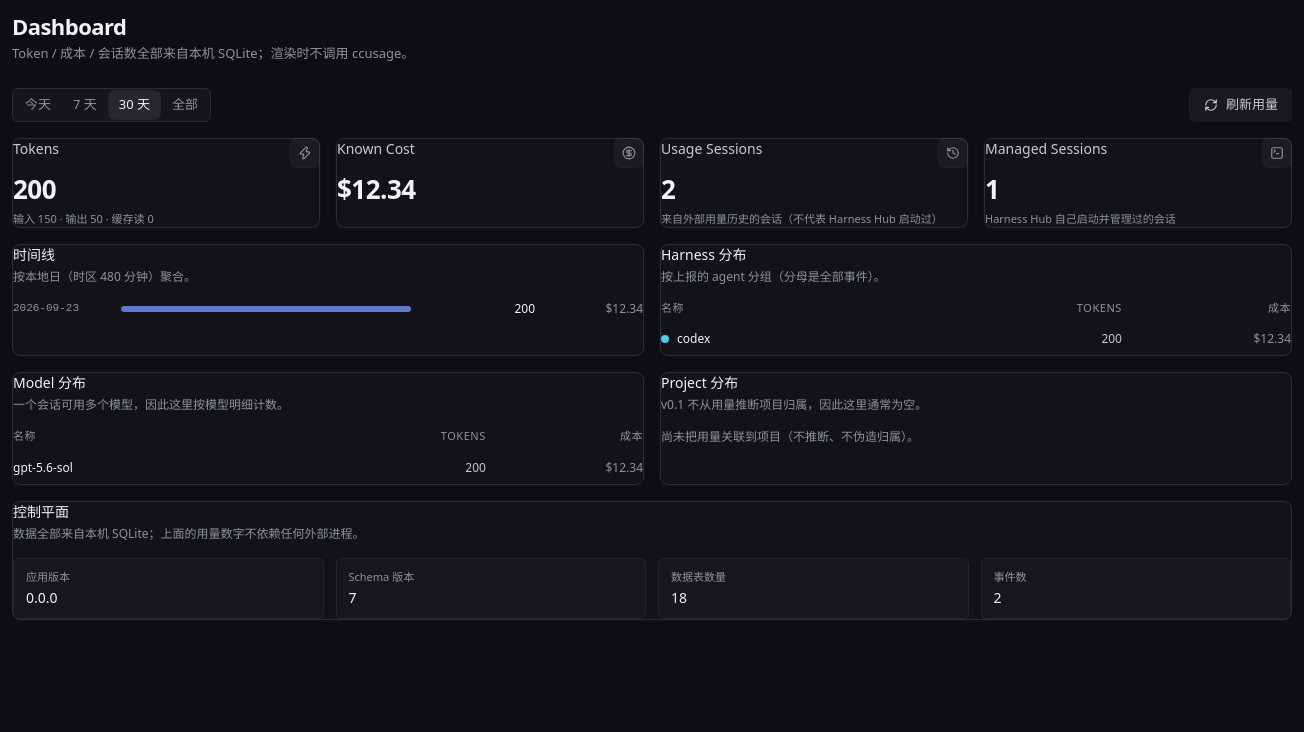
it: DashboardPage › 切换范围失败时保留上一次的数字并显示错误
Expected: the element with test id "kpi-tokens" is shown, [12,138,320,228]
Click the button "今天": (38, 104) [15,90,61,118]
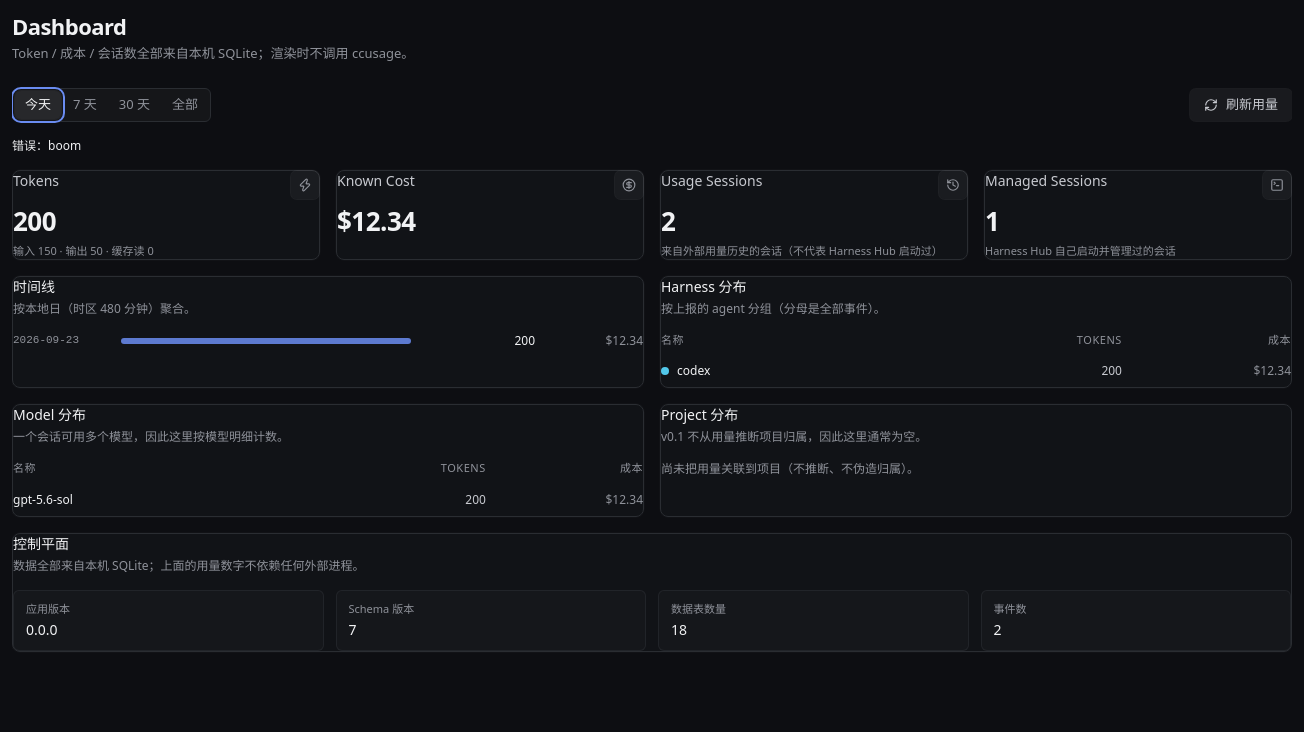
Expected: the element with test id "kpi-tokens" shows "200", [13,202,56,238]
Result: the message shows "boom" at [12,136,81,154]
